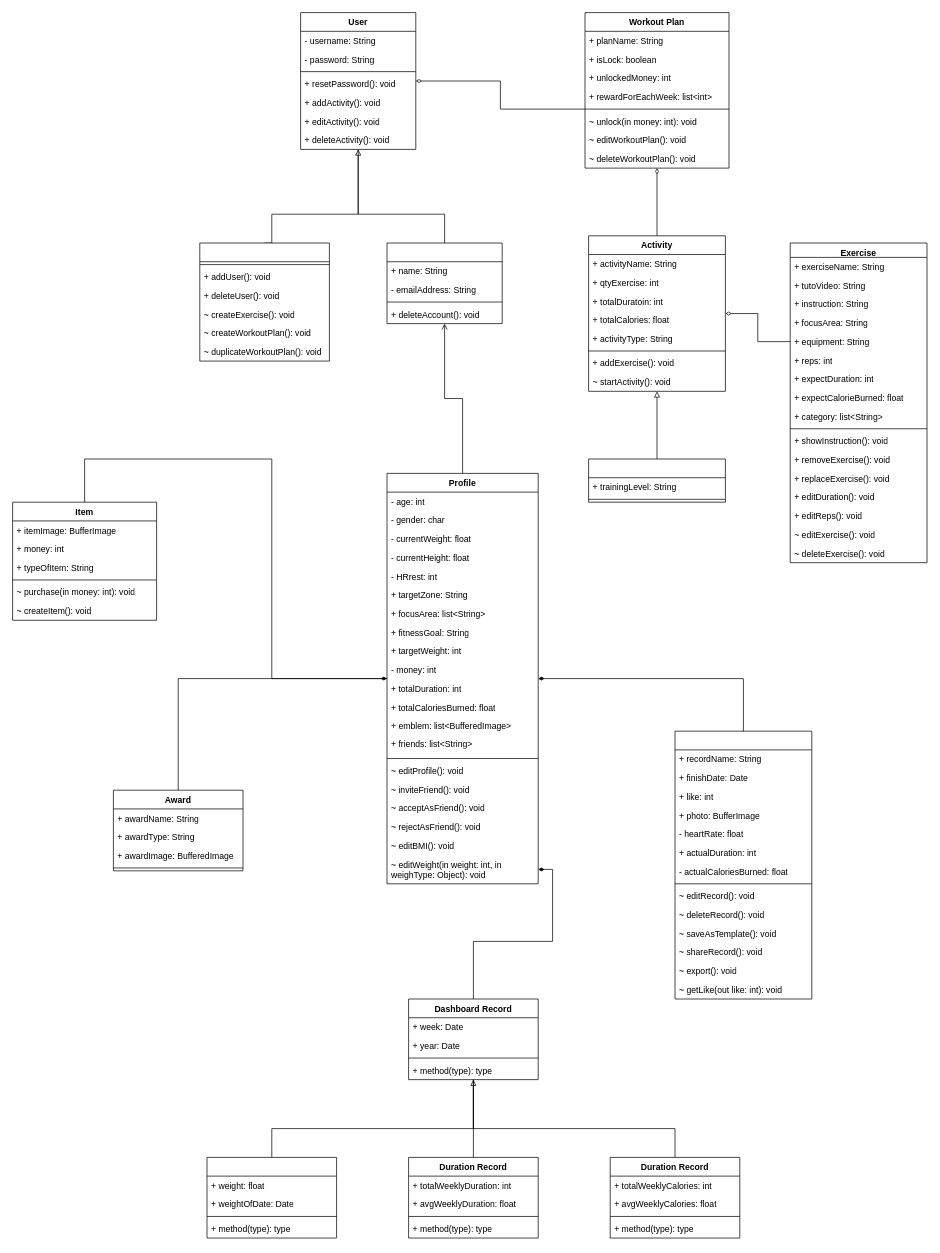
This 940x1253 diagram has some shape labels left out. The box of each missing label's shape, as (x1, y1, x2, y2) in pixels:
Activity Record: (674, 730, 812, 999)
Admin: (199, 242, 329, 361)
Predefined Activity: (588, 458, 725, 502)
Registered User: (386, 242, 502, 324)
Weight Record: (206, 1157, 337, 1238)
